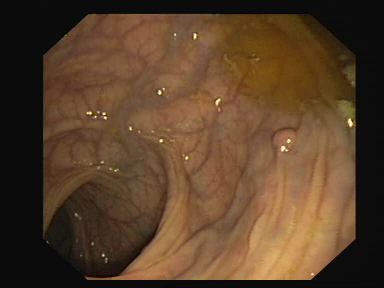polyp: (266, 127, 311, 157)
